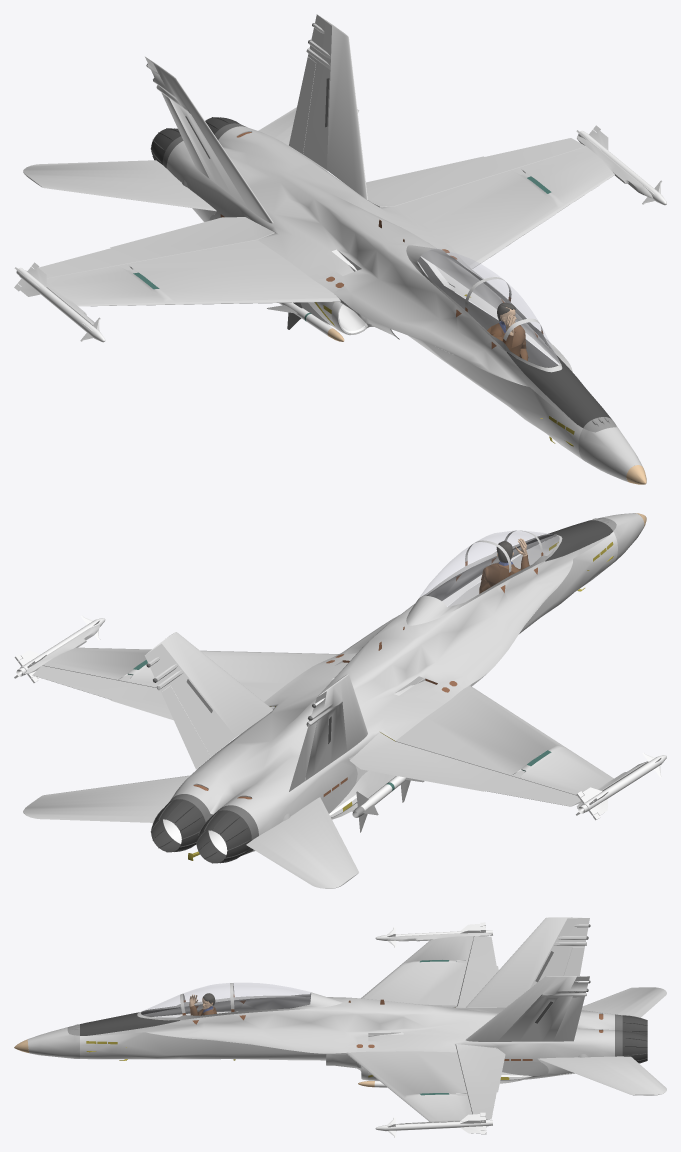
The picture shows the model from 3 angles, top to bottom: view 1: azimuth 30°, elevation 25°; view 2: azimuth 150°, elevation 25°; view 3: azimuth 270°, elevation 25°; orthographic projection. The views are drawn at different scales.
Parts seen in each view (by area): view 1: VIFS09-FACES, VIFS40-FACES, VIFS41-FACES, VIFS35-FACES, VIFS23-FACES, VIFS06-FACES, VIFS11-FACES, VIFS34-FACES, VIFS38-FACES, VIFS05-FACES, VIFS02-FACES, VIFS07-FACES (+3 smaller); view 2: VIFS09-FACES, VIFS40-FACES, VIFS23-FACES, VIFS35-FACES, VIFS41-FACES, VIFS06-FACES, VIFS34-FACES, VIFS33-FACES, VIFS11-FACES, VIFS38-FACES, VIFS07-FACES, VIFS05-FACES (+4 smaller); view 3: VIFS09-FACES, VIFS40-FACES, VIFS35-FACES, VIFS34-FACES, VIFS11-FACES, VIFS23-FACES, VIFS41-FACES, VIFS06-FACES, VIFS38-FACES, VIFS07-FACES, VIFS05-FACES, VIFS02-FACES (+3 smaller).
Part boxes in pixels (x1,y1,x2,y2): VIFS09-FACES: (166, 126, 575, 423); VIFS40-FACES: (46, 146, 614, 306); VIFS41-FACES: (34, 138, 585, 278); VIFS35-FACES: (150, 14, 367, 222); VIFS23-FACES: (23, 107, 359, 211); VIFS06-FACES: (418, 249, 558, 366); VIFS11-FACES: (337, 250, 608, 459); VIFS34-FACES: (145, 32, 367, 223); VIFS38-FACES: (14, 125, 666, 342); VIFS05-FACES: (507, 343, 611, 427); VIFS02-FACES: (578, 425, 642, 482); VIFS07-FACES: (406, 245, 562, 372); VIFS09-FACES: (171, 535, 608, 835); VIFS40-FACES: (42, 647, 613, 796); VIFS23-FACES: (23, 775, 358, 888); VIFS35-FACES: (144, 632, 347, 776); VIFS41-FACES: (32, 665, 581, 806); VIFS06-FACES: (420, 530, 558, 606); VIFS34-FACES: (156, 674, 367, 791); VIFS33-FACES: (150, 799, 251, 863); VIFS11-FACES: (395, 532, 617, 693); VIFS38-FACES: (14, 615, 666, 820); VIFS07-FACES: (406, 530, 562, 625); VIFS05-FACES: (513, 520, 612, 561); VIFS09-FACES: (88, 997, 614, 1075); VIFS40-FACES: (347, 936, 473, 1121); VIFS35-FACES: (466, 917, 589, 1007); VIFS34-FACES: (465, 976, 589, 1041); VIFS11-FACES: (80, 1017, 400, 1060); VIFS23-FACES: (538, 987, 666, 1094); VIFS41-FACES: (455, 936, 505, 1119); VIFS06-FACES: (142, 983, 310, 1017); VIFS38-FACES: (375, 922, 493, 1137); VIFS07-FACES: (137, 983, 342, 1020); VIFS05-FACES: (80, 1007, 179, 1035); VIFS02-FACES: (27, 1027, 79, 1058).
Bounding box in the file's own units: 1704 × 550 × 2383.
